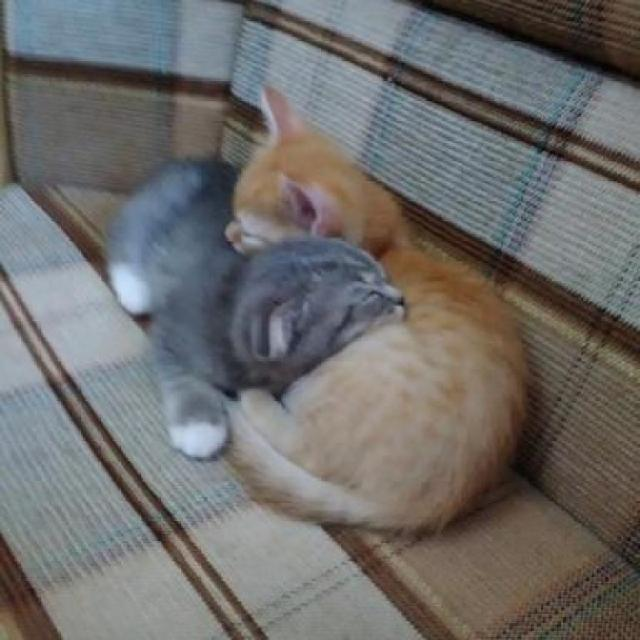cat: (226, 88, 532, 528), (110, 160, 404, 458)
